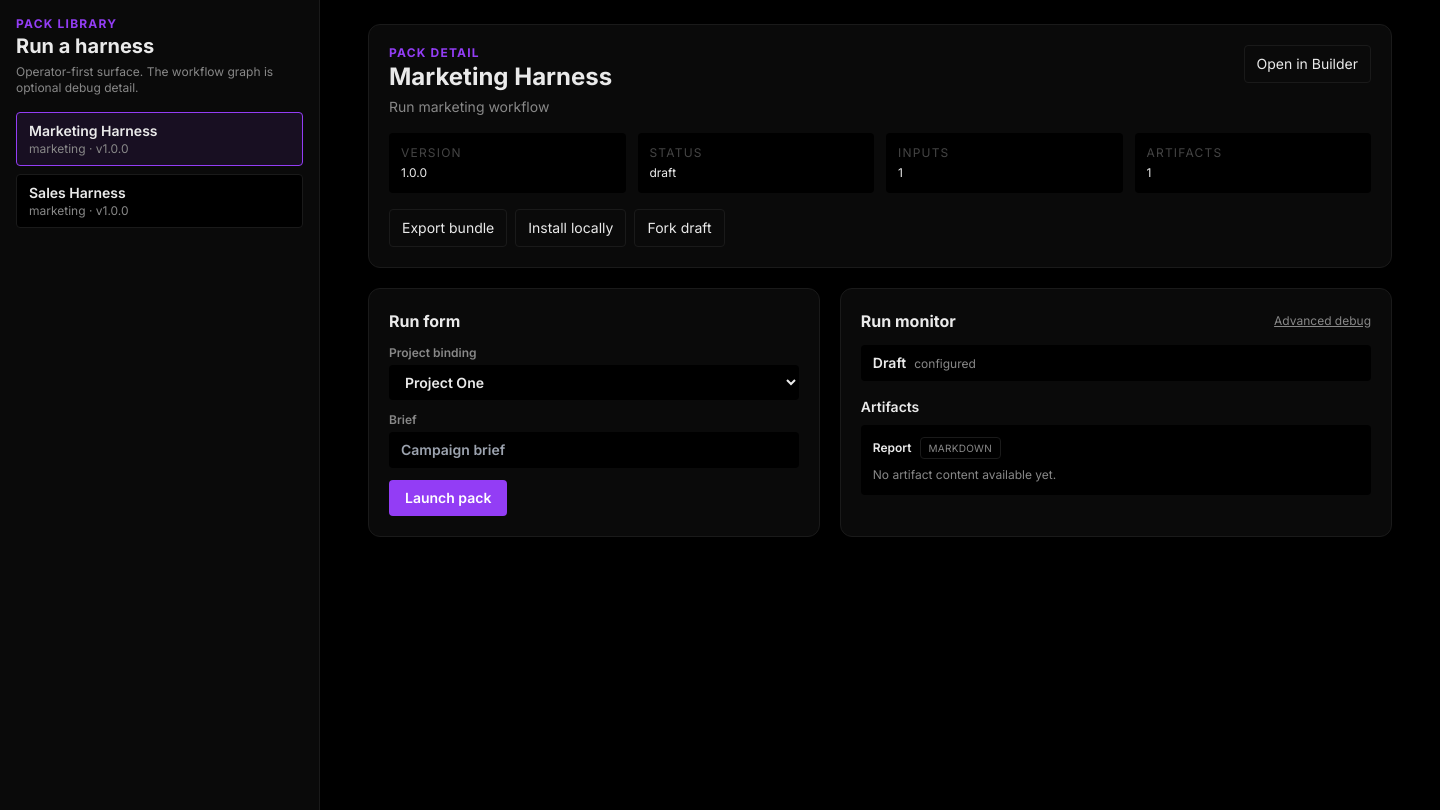
it: PackLibraryView › clears pack-local input and local execution state when switching packs
The image size is (1440, 810).
Check: the text "Pack Detail" is shown, box [389,45,480,60]
Type "Marketing-only brief" into the field labelled "Brief" at (594, 450), box [389,432,799,468]
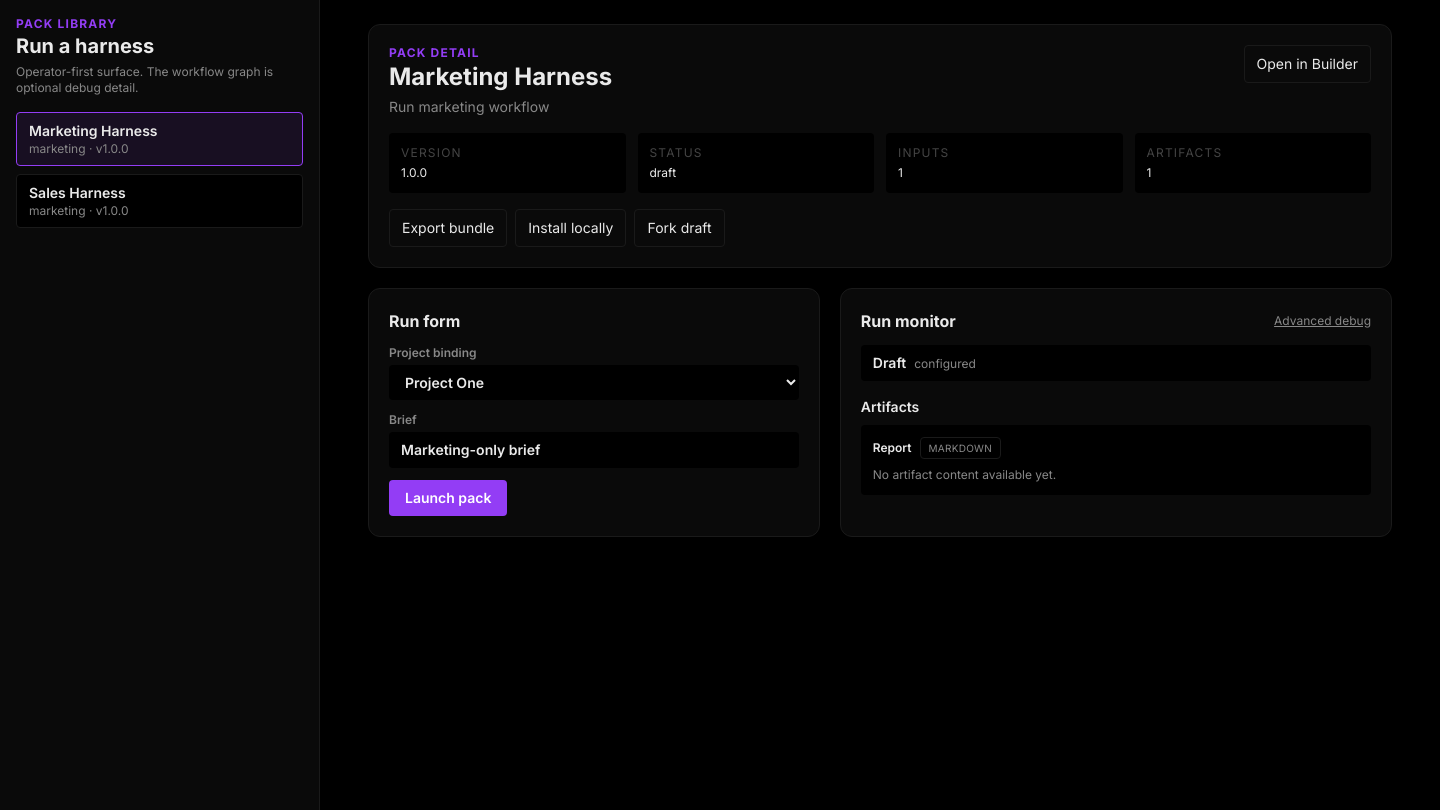
Click the button "Launch pack" at (448, 498), box [389,480,507,516]
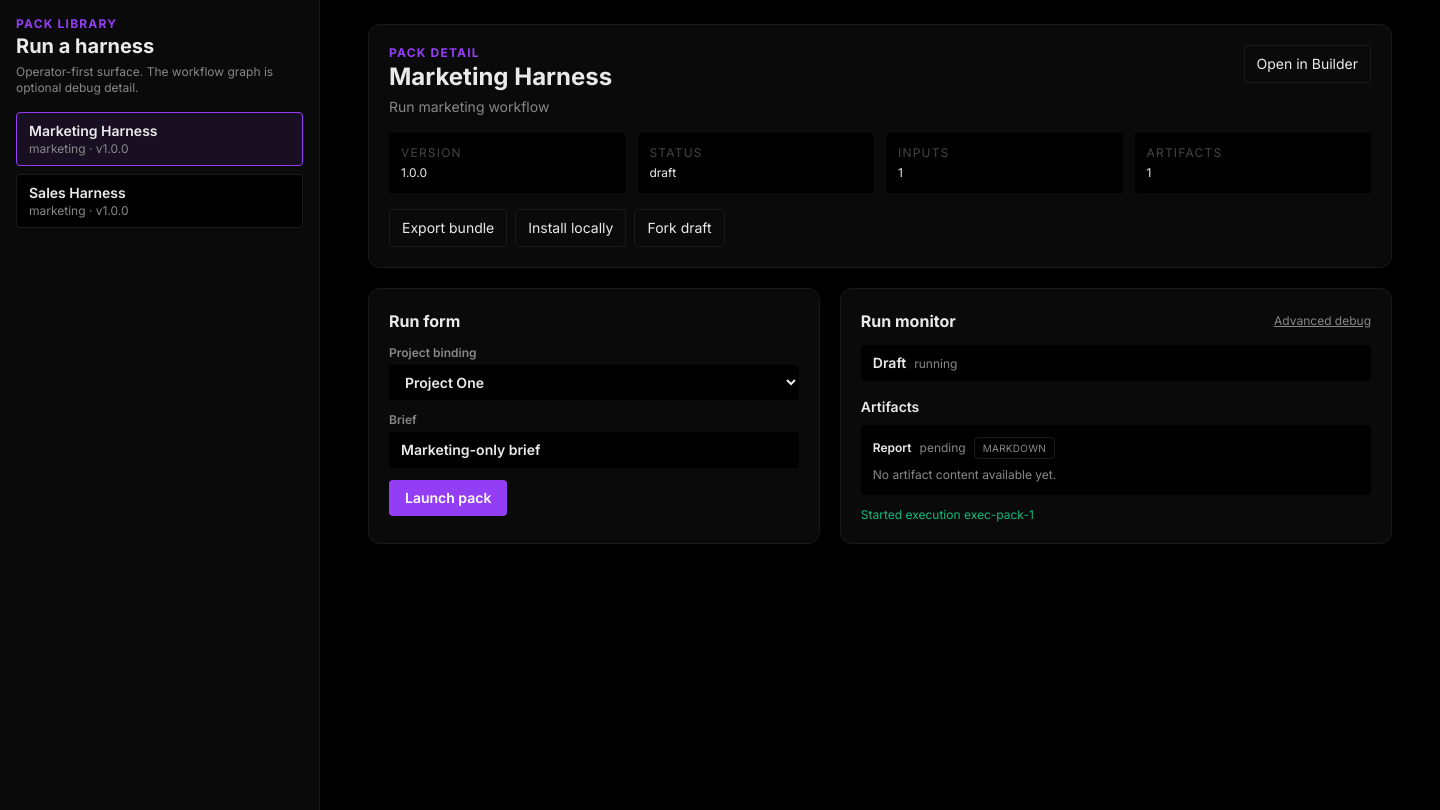
Check: the text "Started execution exec-pack-1" is shown, box [861,507,1034,522]
Click the button "Advanced debug" at (1323, 321), box [1274,313,1371,329]
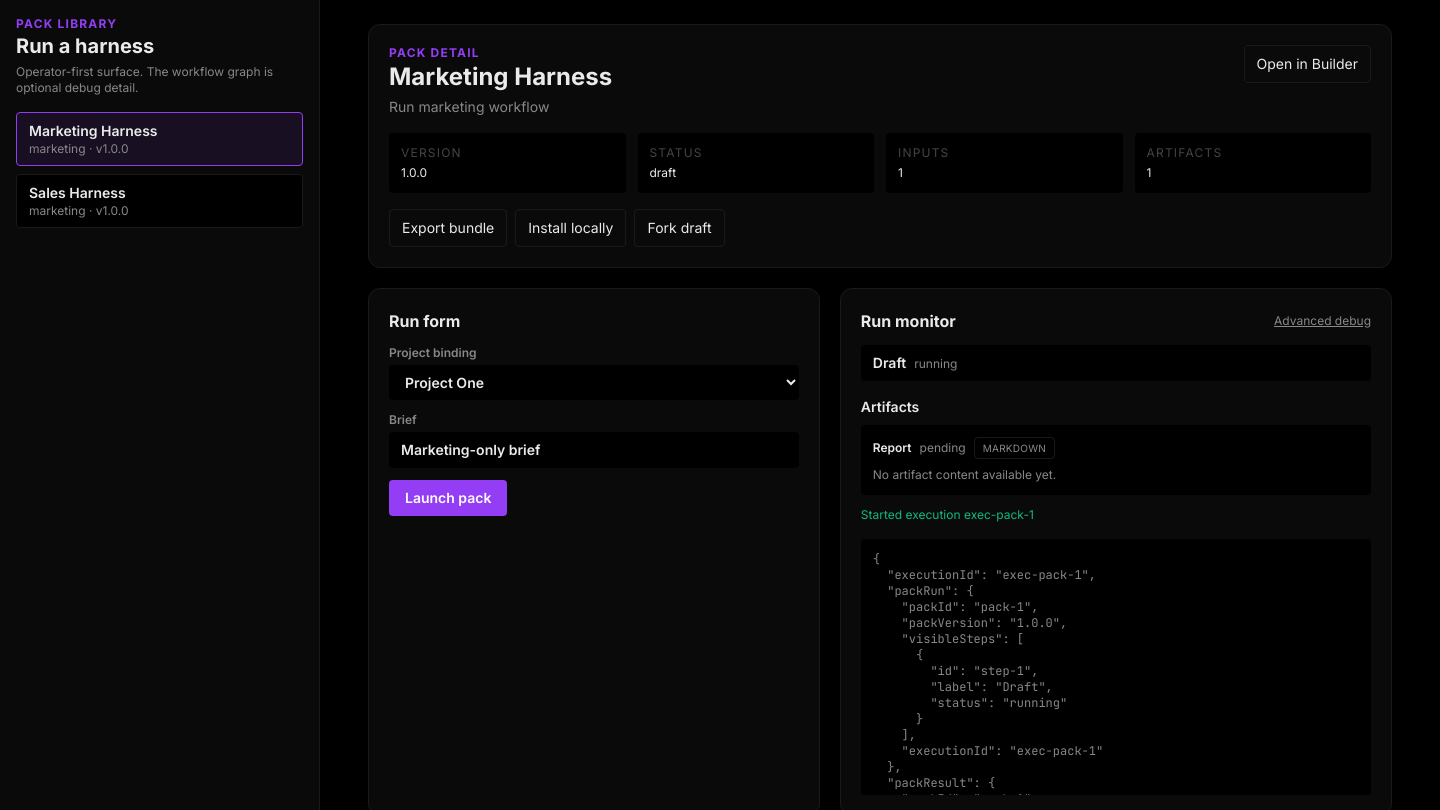
Check: the text "\"packId\": \"pack-1\"" is shown, box [873,551,1103,809]
Click the text "Sales Harness" at (77, 192), box [29,184,126,201]
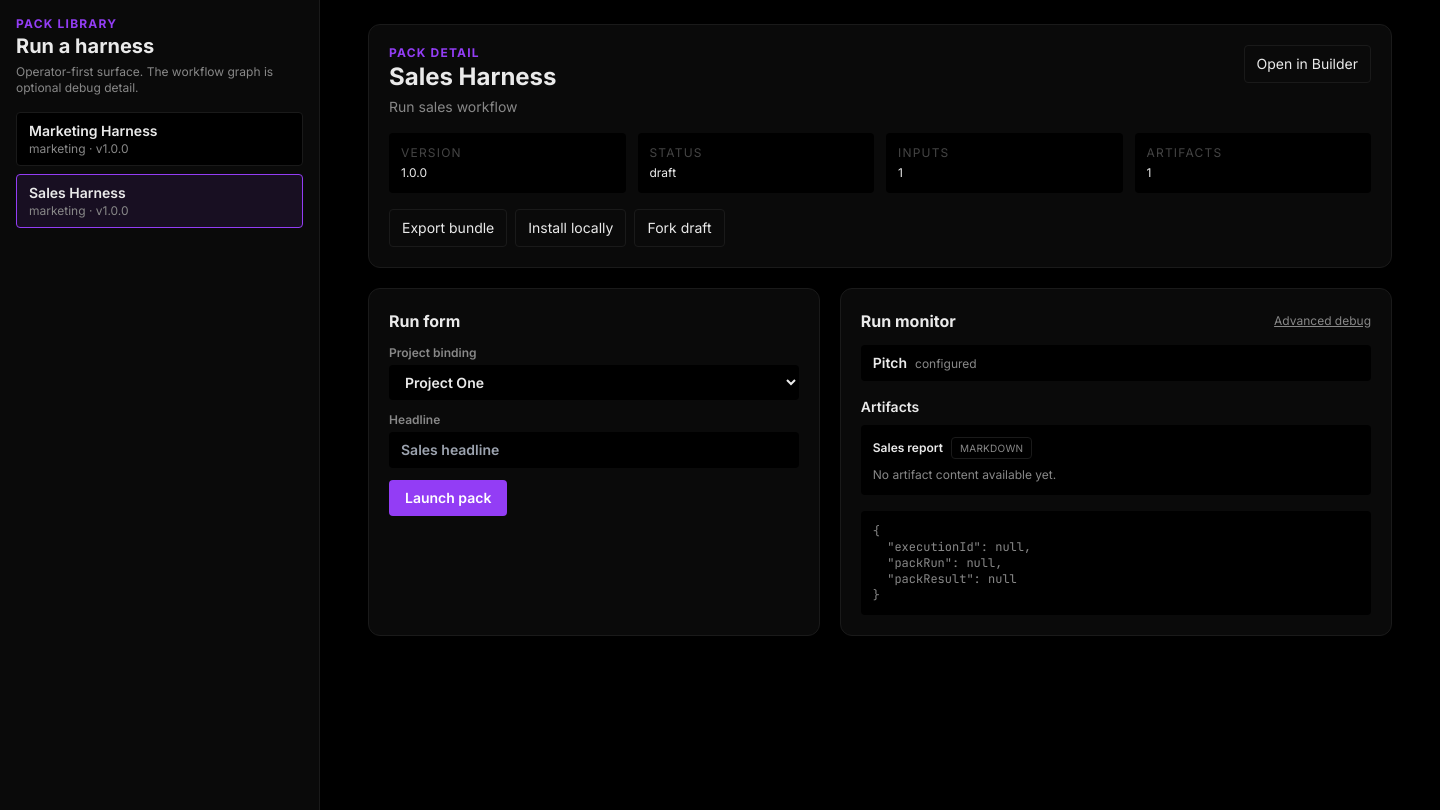
Check: the text "Started execution exec-pack-1" is gone
Check: the text "\"packId\": \"pack-1\"" is gone
Type "Close the quarter strong" into the field labelled "Headline" at (594, 450), box [389,432,799,468]
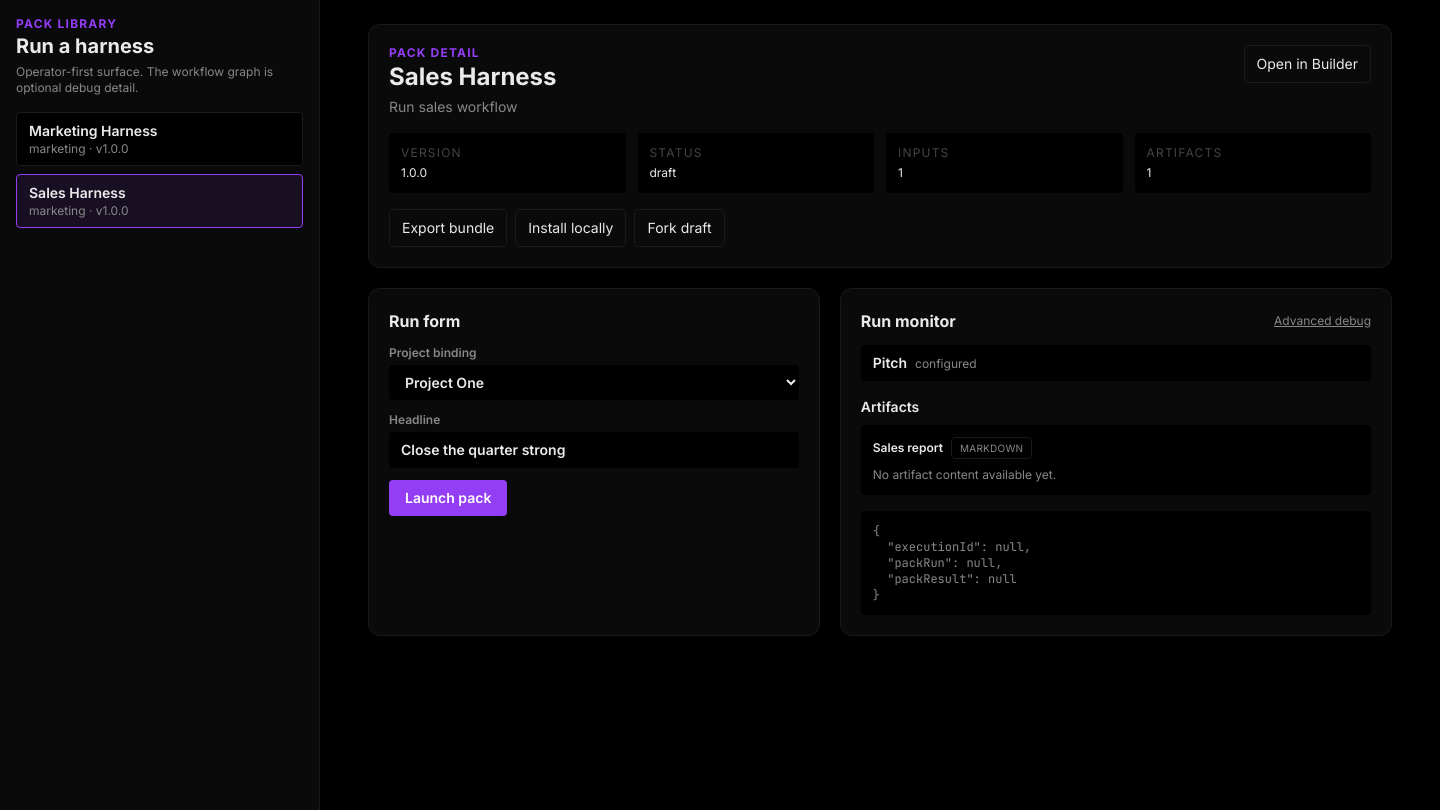
Click the button "Launch pack" at (448, 498), box [389,480,507,516]
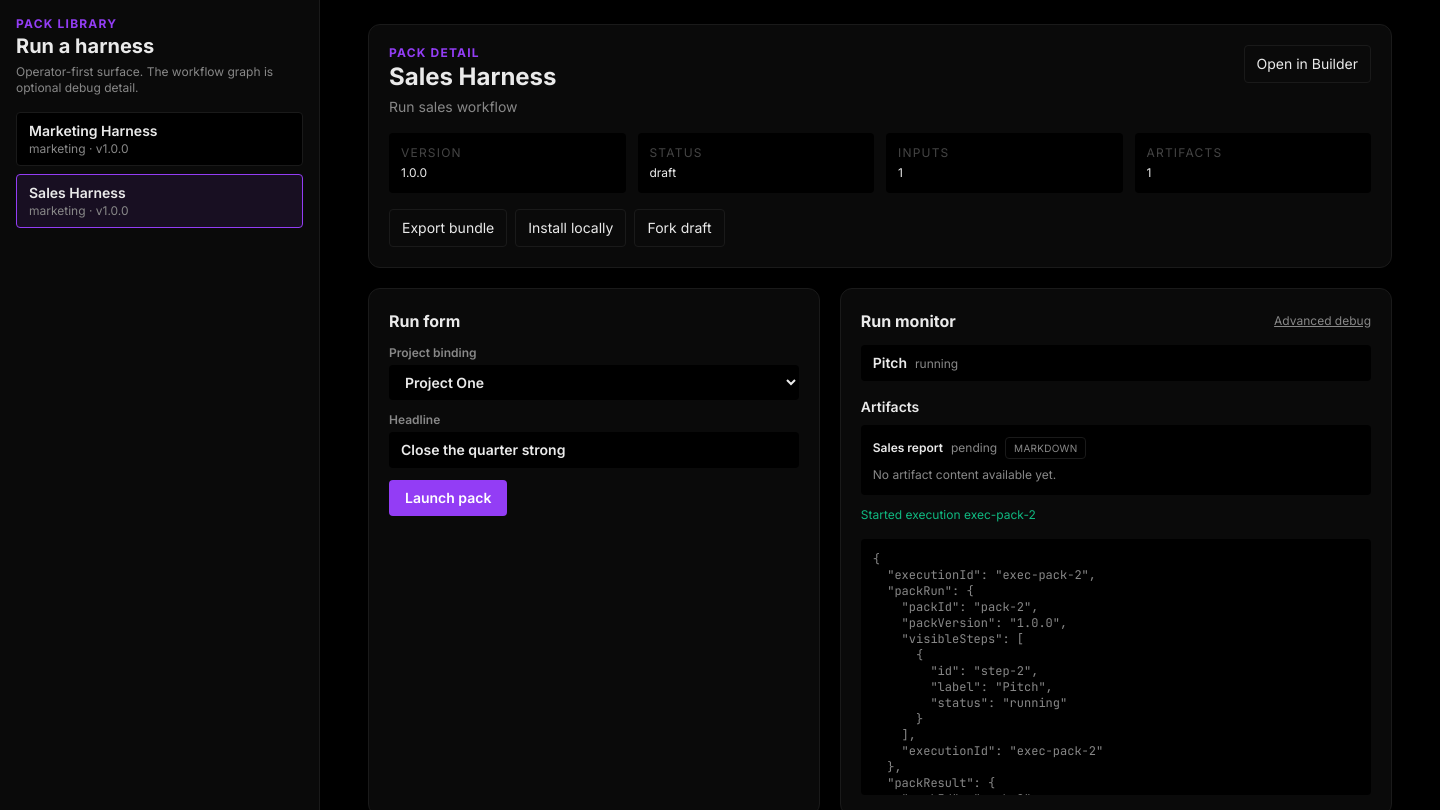
Check: the text "Started execution exec-pack-2" is shown, box [861,507,1036,522]
